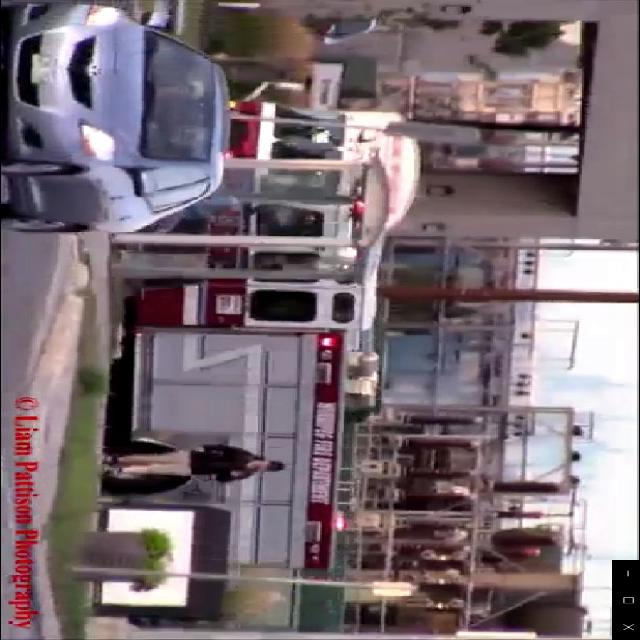emergency: (104, 94, 390, 586)
